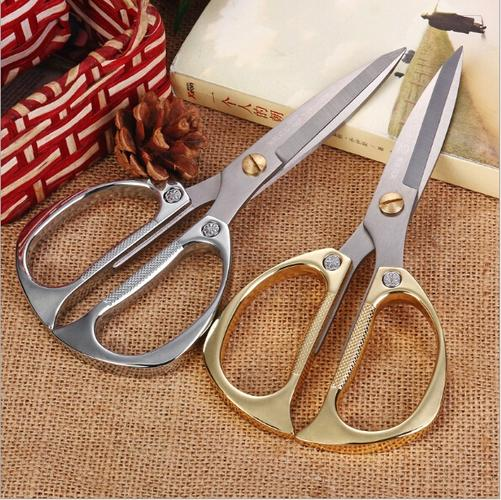scissor: (20, 46, 404, 370), (202, 42, 465, 444)
